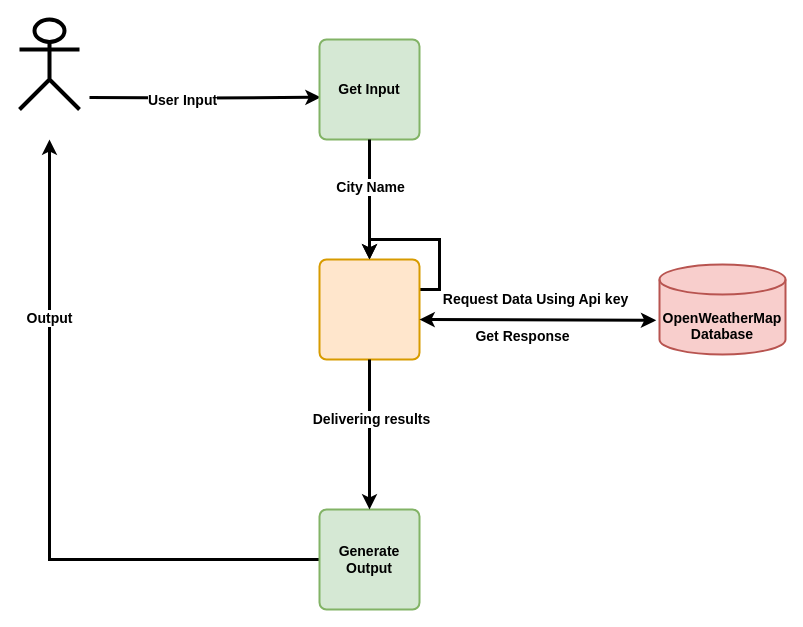
The diagram is 803 pixels wide and 627 high, and some of its shapes have lost their labels. Here are the shapes that lost their labels. From the top down, the centre of each, then its label:
At (49,64): "User".
At (369,309): "Weather Data".
